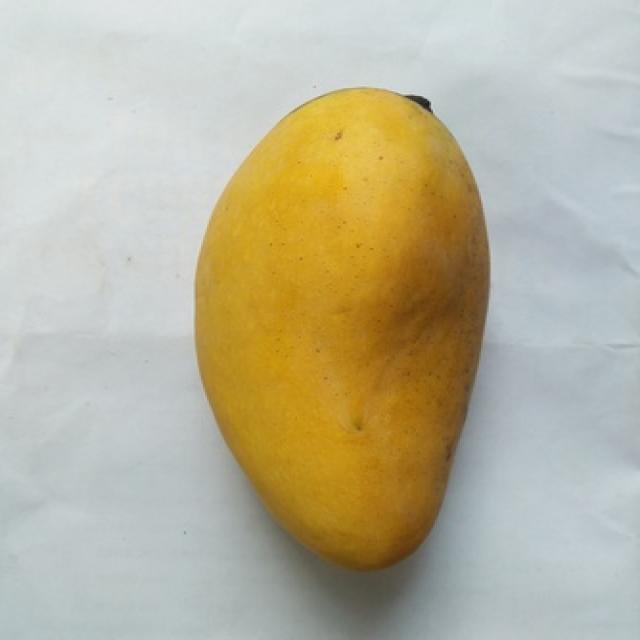Mango: (195, 88, 487, 566)
